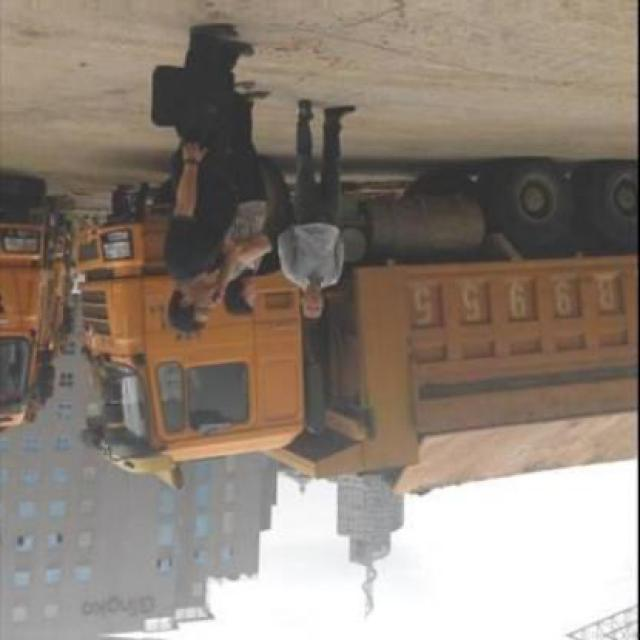sin casco: (272, 266, 341, 323), (210, 259, 266, 316), (167, 266, 211, 325)
